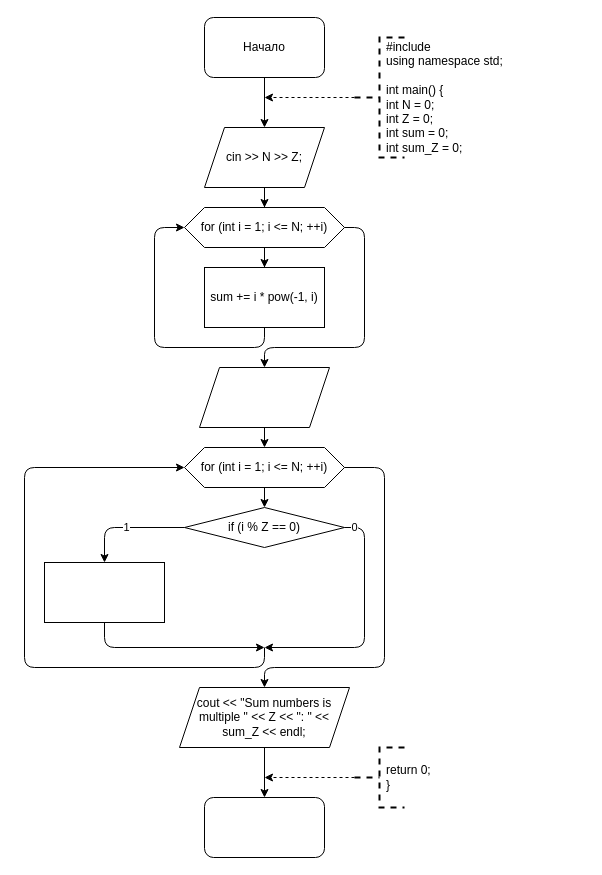
Image size: 602x875. Some labels were removed from this diagram. Here are the shapes that lost their labels. From the top down, the box of each, then its label:
(198, 366, 330, 428): cout << "Sum: " << sum;
(44, 562, 164, 622): sum_Z += i
(204, 796, 324, 858): Конец
